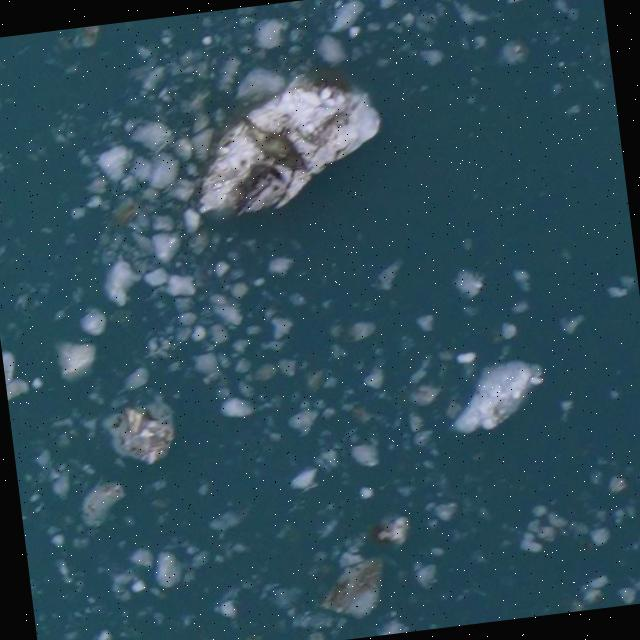seal: (237, 107, 312, 178)
